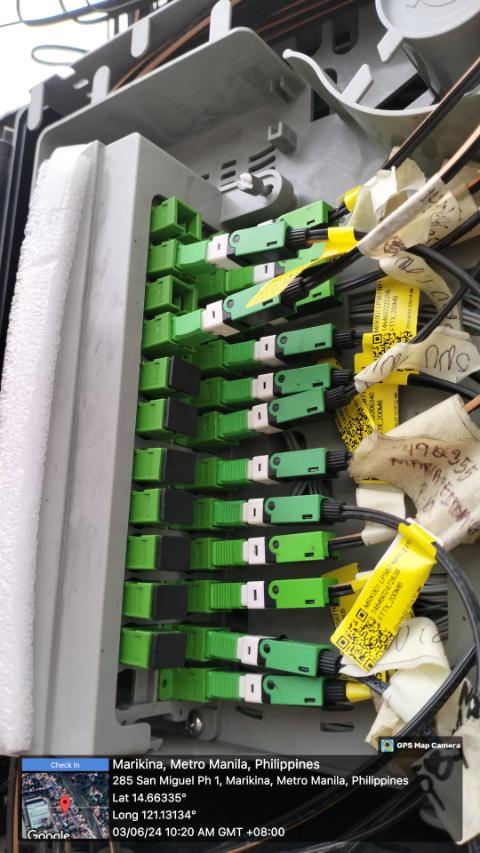no dust cap: (175, 197, 201, 241), (170, 277, 196, 319)
no port: (114, 665, 156, 713)
occupied: (219, 379, 357, 447), (178, 215, 319, 281), (224, 272, 348, 336), (227, 195, 342, 264), (206, 627, 347, 681), (226, 321, 361, 375), (223, 360, 354, 408), (226, 243, 340, 296), (207, 668, 348, 710), (209, 529, 342, 569), (212, 576, 346, 614), (211, 492, 346, 529), (214, 448, 349, 485)
vacant: (166, 398, 199, 437), (170, 357, 202, 395), (152, 634, 186, 667), (159, 536, 191, 571), (162, 489, 194, 524), (164, 449, 195, 482), (157, 587, 186, 621)
